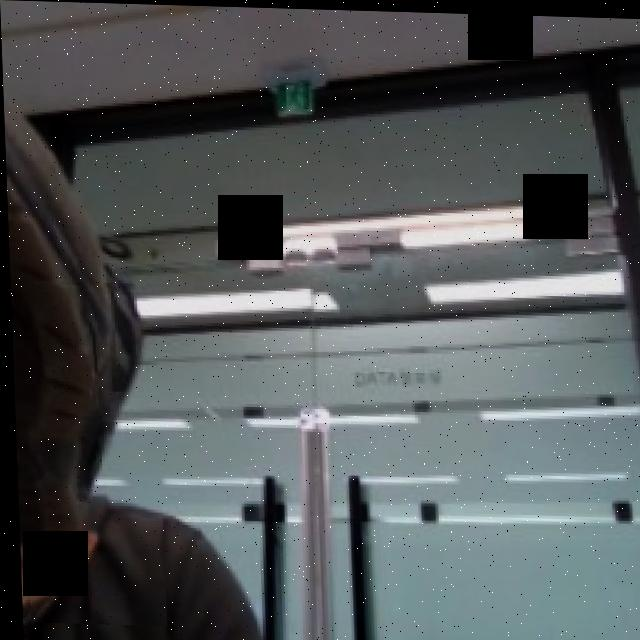shoe: (4, 115, 162, 625)
